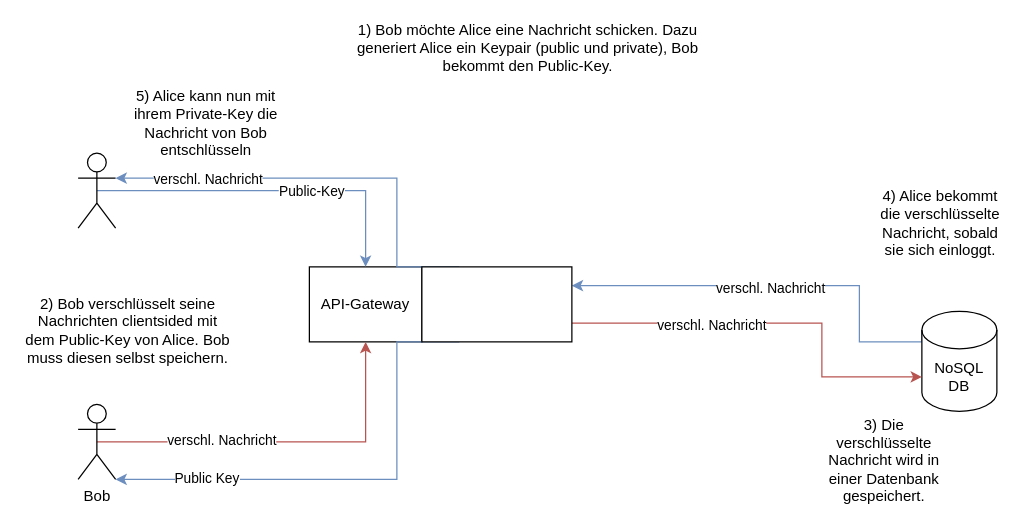
This 1030x528 diagram has some shape labels left out. Here are the shapes that lost their labels. From the top down, the centre of each, then its label:
At [96,190]: "Alice".
At [496,304]: "Node Runtime".
